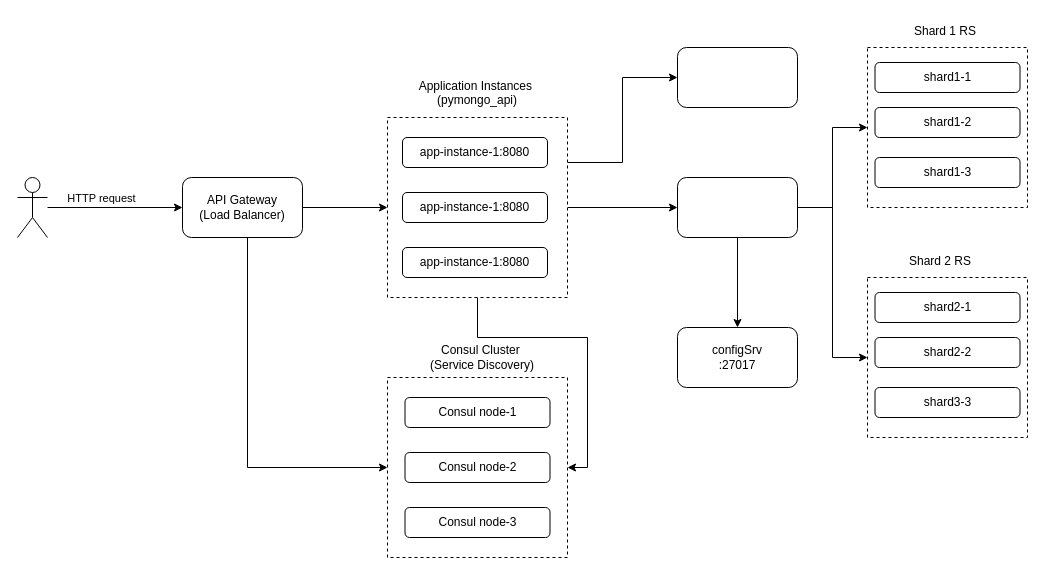
Some shapes in this 1045 by 575 pixel diagram are drawn without their labels. The shapes that lost their labels are listed below. From the top down, each one's centre as x and y in pixels, then its label:
point (737, 77): Redis:6379
point (32, 207): Client
point (737, 207): Mongos:27020
